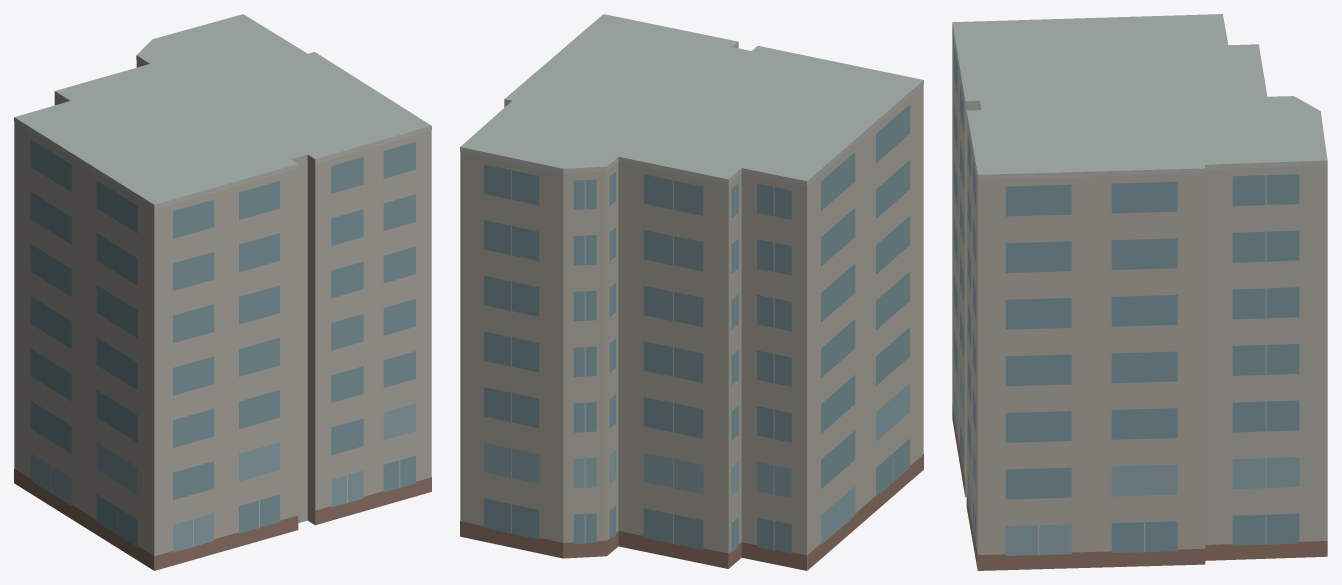
Rendered from survey-upis-33003327.glb.
3 views of the same model, side by side, from view 1: azimuth 30°, elevation 25°; view 2: azimuth 150°, elevation 25°; view 3: azimuth 270°, elevation 25° (orthographic). The views are drawn at different scales.
Visible parts, largest first — view 1: survey-upis-33003327.tmp; view 2: survey-upis-33003327.tmp; view 3: survey-upis-33003327.tmp.
Part boxes in pixels (x1,y1,x2,y2): survey-upis-33003327.tmp: (14,14,431,570); survey-upis-33003327.tmp: (460,14,923,570); survey-upis-33003327.tmp: (952,14,1327,570).
Size of the model in its own units: 17.07 by 19.6 by 16.84.
